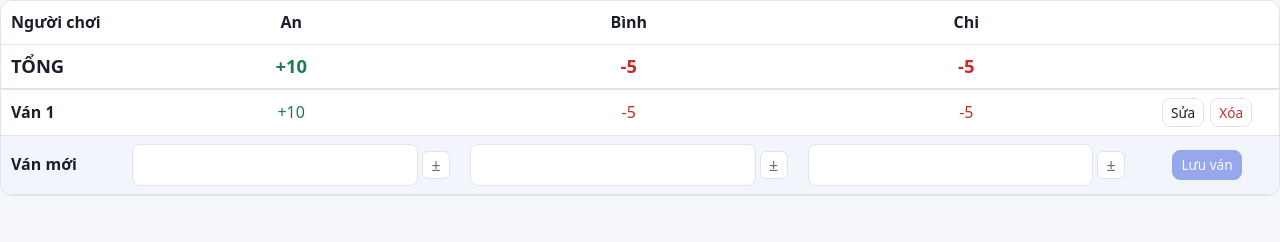
ScoreTable new round row › asks for exactly one blank cell while several are still empty
This screenshot has width=1280, height=242.
Type "10" into the field named "Ván mới, điểm An" at (275, 165), box [132,144,418,186]
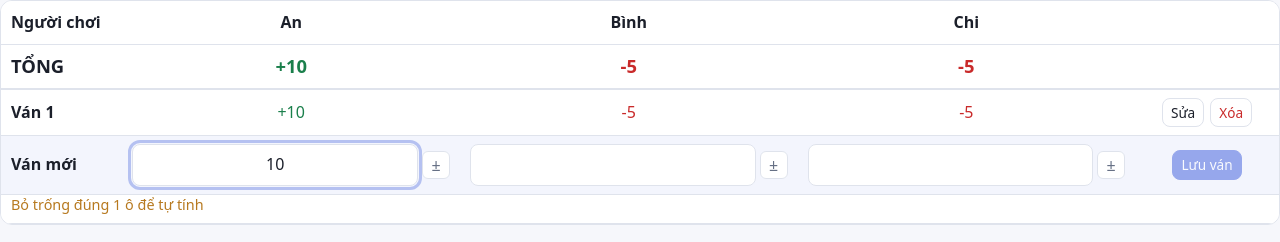
Expected: the button "Lưu ván" is disabled, [1172,150,1242,180]
Expected: the text "Bỏ trống đúng 1 ô để tự tính" is shown, [11,195,204,214]
